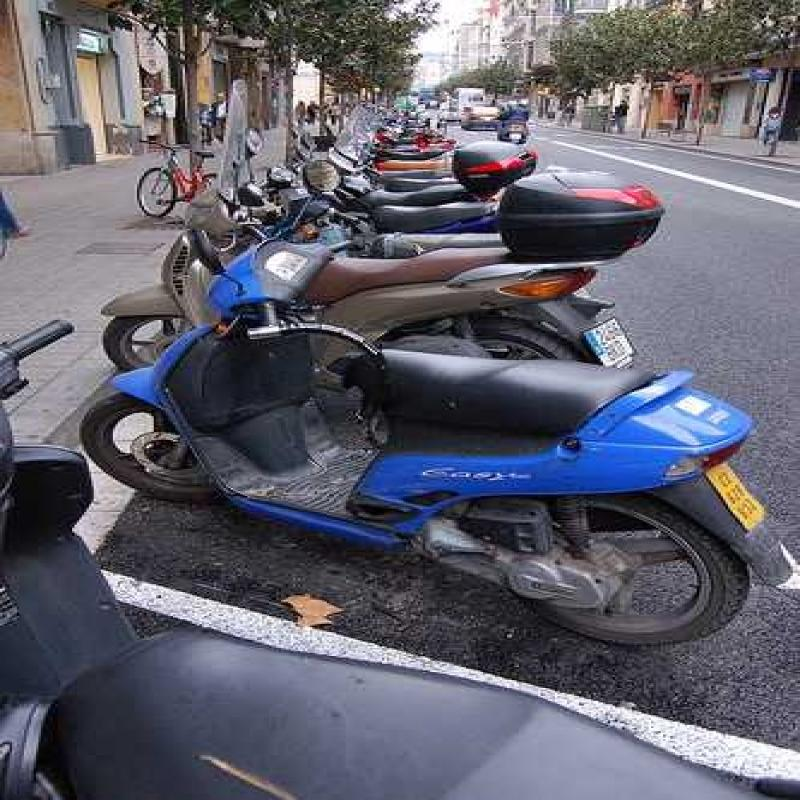bike: (0, 409, 788, 800), (96, 256, 764, 630), (140, 218, 648, 356), (318, 175, 513, 215)
